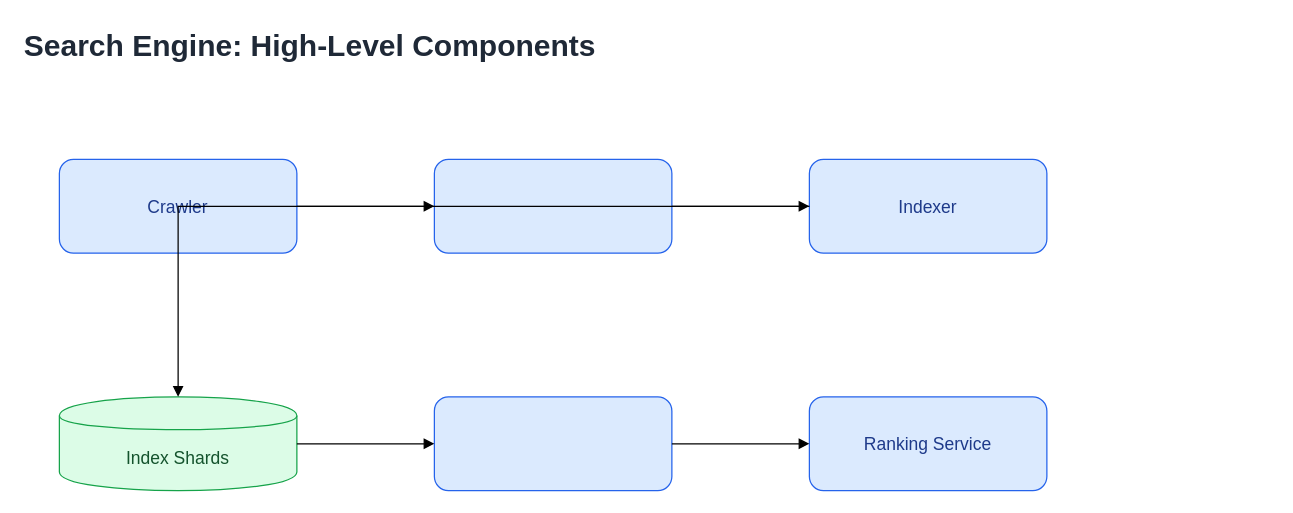
The diagram is 1293 pixels wide and 513 high, and some of its shapes have lost their labels. The centre of each missing label's shape, as x and y in pixels:
"Document Processor" belongs at [552,205].
"Query Service" belongs at [552,443].
